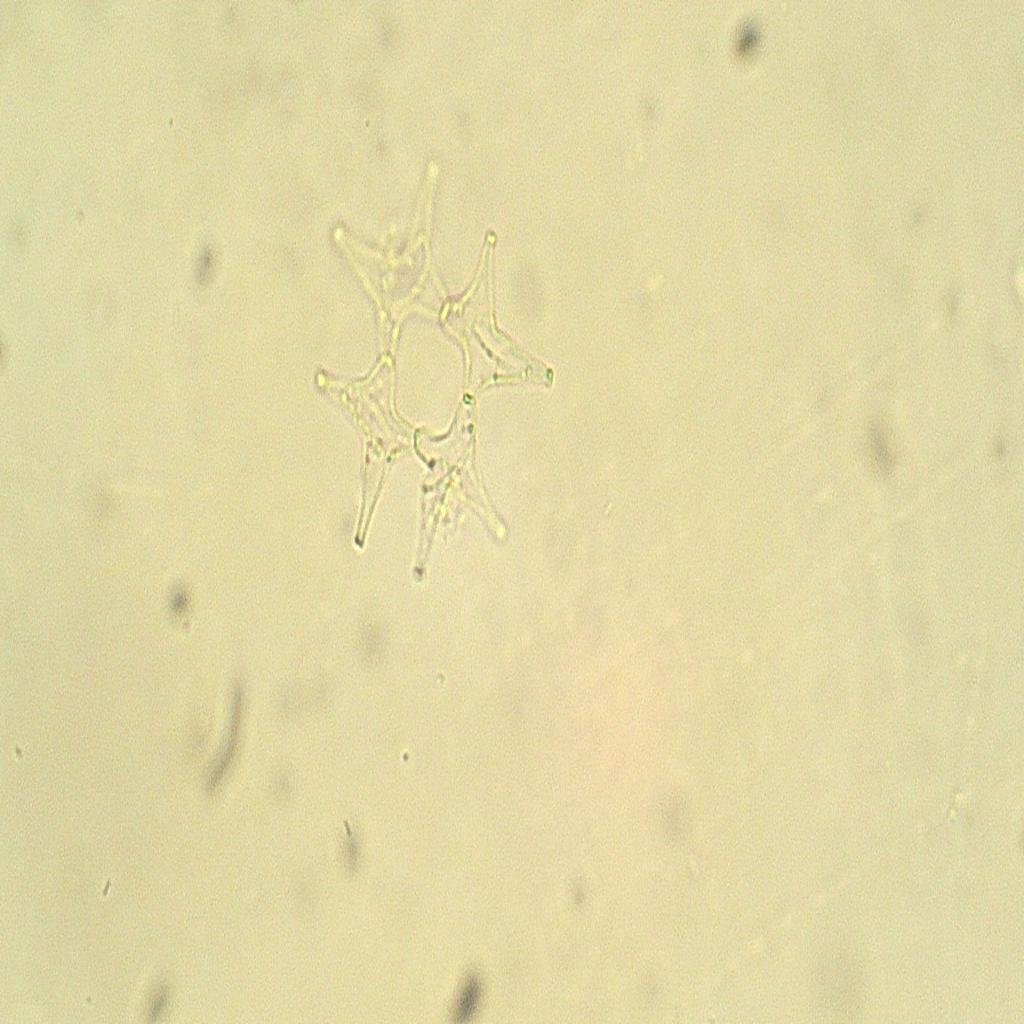Pediastrum_1F0: (287, 135, 573, 585)
